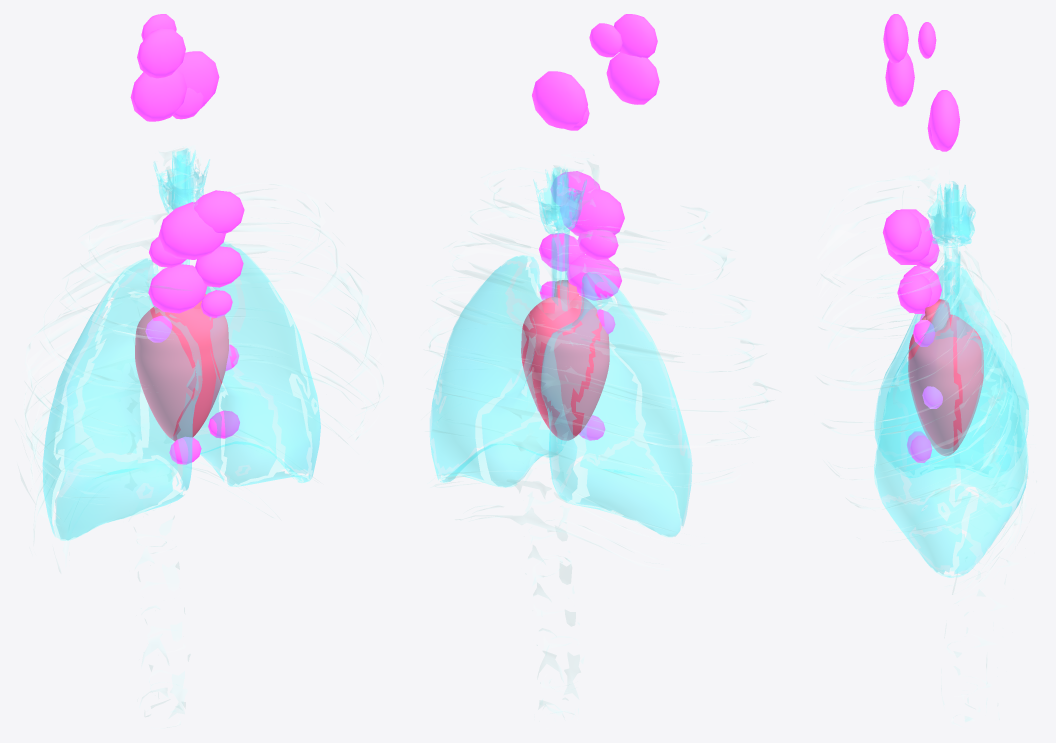
File: heart-anatomical-progressing-2.glb
3 renders of one model, left to right at view 1: azimuth 30°, elevation 25°; view 2: azimuth 150°, elevation 25°; view 3: azimuth 270°, elevation 25°, orthographic. The views are drawn at different scales.
Parts seen in each view (by area): view 1: Lungs, Ribcage, Heart, AmyloidAnat_5, AmyloidAnat_7, AmyloidAnat_0, AmyloidAnat_2, AmyloidAnat_8, AmyloidAnat_6, AmyloidAnat_1, AmyloidExtra_4, AmyloidExtra_1 (+1 smaller); view 2: Lungs, Ribcage, Heart, AmyloidAnat_1, AmyloidAnat_5, AmyloidAnat_0, AmyloidAnat_7, AmyloidAnat_2, AmyloidAnat_6, AmyloidAnat_8, AmyloidAnat_9, AmyloidAnat_3; view 3: Lungs, Ribcage, Heart, AmyloidAnat_1, AmyloidAnat_8, AmyloidAnat_0, AmyloidAnat_6, AmyloidAnat_2, AmyloidAnat_5, AortaAnat, AmyloidAnat_3, AmyloidAnat_7 (+2 smaller).
Part boxes in pixels (box(x1,y1,x2,y2)): Lungs: box(42, 148, 320, 540); Ribcage: box(15, 145, 388, 726); Heart: box(135, 294, 228, 441); AmyloidAnat_5: box(158, 202, 225, 259); AmyloidAnat_7: box(148, 264, 207, 313); AmyloidAnat_0: box(130, 69, 187, 121); AmyloidAnat_2: box(137, 28, 185, 78); AmyloidAnat_8: box(194, 190, 244, 233); AmyloidAnat_6: box(195, 246, 243, 287); AmyloidAnat_1: box(177, 51, 219, 108); AmyloidExtra_4: box(169, 436, 201, 464); AmyloidExtra_1: box(208, 410, 239, 438); Lungs: box(430, 167, 692, 537); Ribcage: box(427, 154, 775, 716); Heart: box(521, 295, 609, 440); AmyloidAnat_1: box(532, 71, 587, 128); AmyloidAnat_5: box(560, 188, 624, 236); AmyloidAnat_0: box(606, 52, 659, 104); AmyloidAnat_7: box(566, 255, 621, 300); AmyloidAnat_2: box(614, 14, 657, 58); AmyloidAnat_6: box(539, 232, 585, 271); AmyloidAnat_8: box(550, 171, 600, 206); AmyloidAnat_9: box(577, 230, 618, 259); AmyloidAnat_3: box(589, 23, 622, 57); Lungs: box(874, 181, 1028, 577); Ribcage: box(817, 165, 1028, 726); Heart: box(908, 314, 983, 456); AmyloidAnat_1: box(929, 90, 960, 151); AmyloidAnat_8: box(882, 210, 921, 254); AmyloidAnat_0: box(885, 52, 914, 106); AmyloidAnat_6: box(897, 273, 932, 312); AmyloidAnat_2: box(883, 14, 908, 63); AmyloidAnat_5: box(886, 209, 932, 264); AortaAnat: box(925, 299, 950, 331); AmyloidAnat_3: box(918, 22, 936, 58); AmyloidAnat_7: box(903, 266, 941, 313).
Size of the model in its own units: 1.21 by 2.42 by 0.7414.
